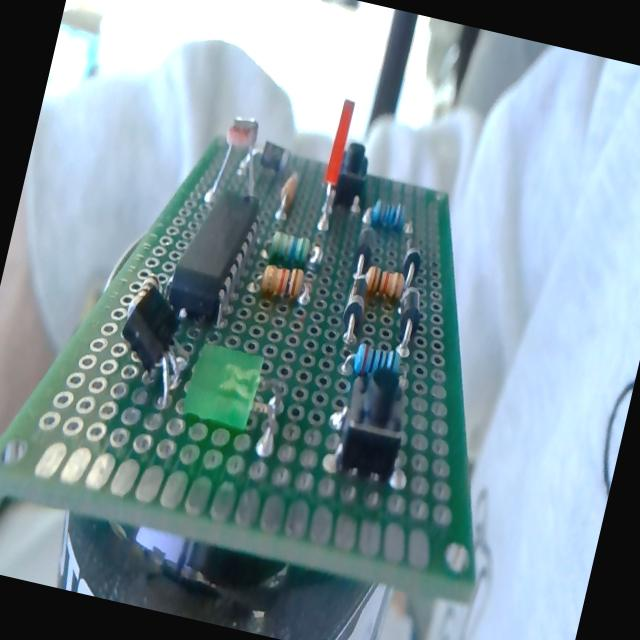IC: (159, 176, 269, 331)
cds: (198, 107, 272, 207)
diode: (384, 280, 428, 361), (331, 278, 372, 346)
led: (172, 334, 298, 474), (306, 89, 360, 236)
resistor: (332, 336, 418, 394), (243, 258, 320, 318), (257, 224, 329, 274), (350, 258, 415, 304), (358, 192, 422, 238)
transistor: (103, 277, 206, 418)
